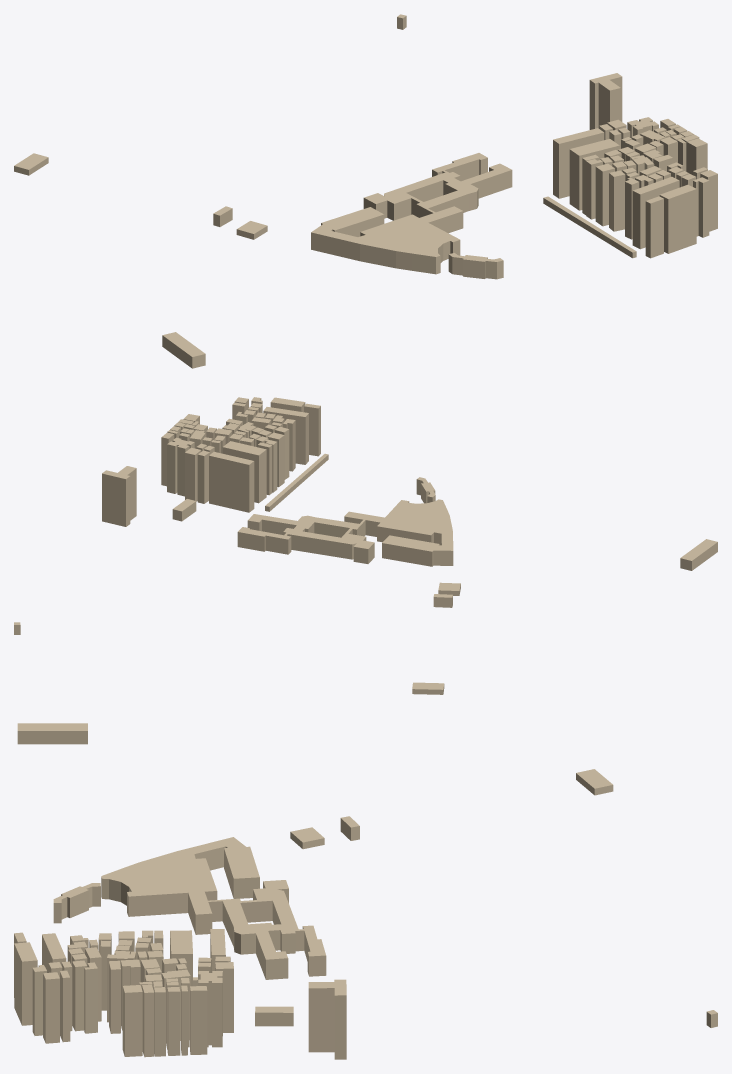
File: -12_1-estimated-coarse.glb
The picture shows the model from 3 angles, top to bottom: view 1: azimuth 30°, elevation 25°; view 2: azimuth 150°, elevation 25°; view 3: azimuth 270°, elevation 25°; orthographic projection. The views are drawn at different scales.
Size of the model in its own units: 615 by 57 by 567.
